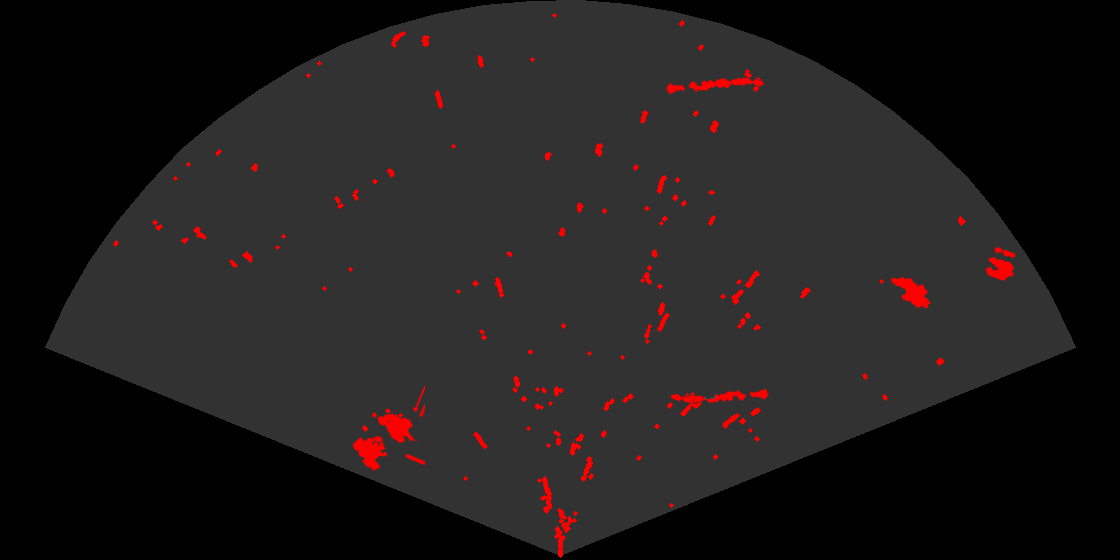AUV: (889, 275, 932, 310)
ball: (984, 245, 1017, 282)
cage: (351, 386, 425, 472)
chain: (664, 76, 766, 95), (669, 387, 770, 405)
